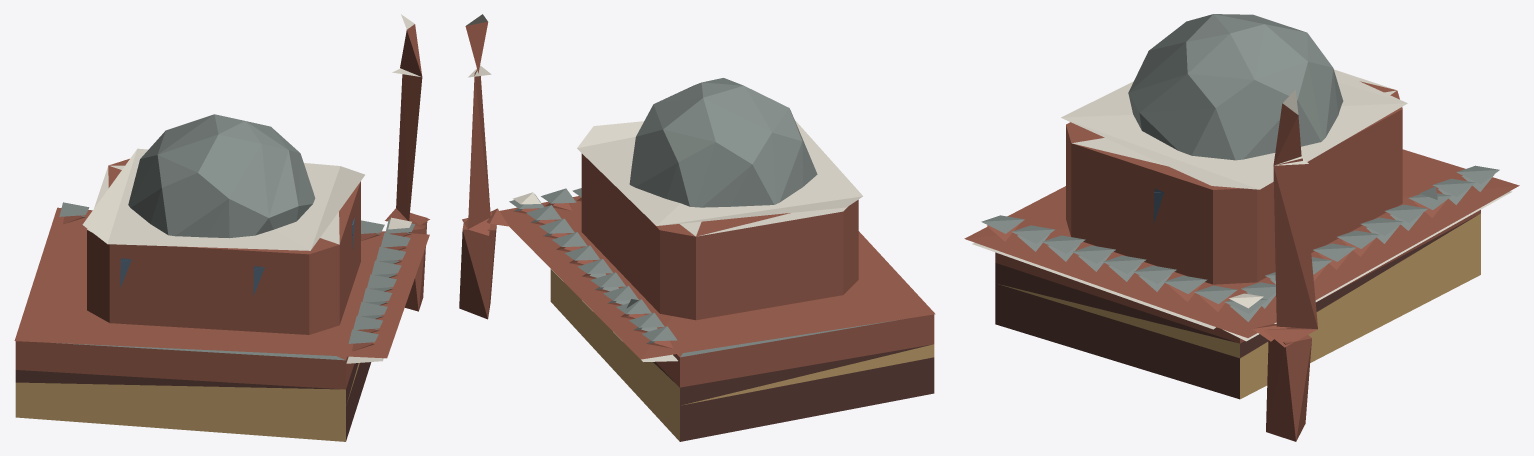
File: westermoskee.lod2.glb
3 views of the same model, side by side, from view 1: azimuth 30°, elevation 25°; view 2: azimuth 150°, elevation 25°; view 3: azimuth 270°, elevation 25° (orthographic). The views are drawn at different scales.
Visible parts, largest first — view 1: lod2; view 2: lod2; view 3: lod2.
Part boxes in pixels (x1,y1,x2,y2): lod2: (14, 14, 429, 441); lod2: (459, 14, 935, 441); lod2: (964, 14, 1519, 441).
Size of the model in its own units: 47.03 by 29.8 by 44.19.
